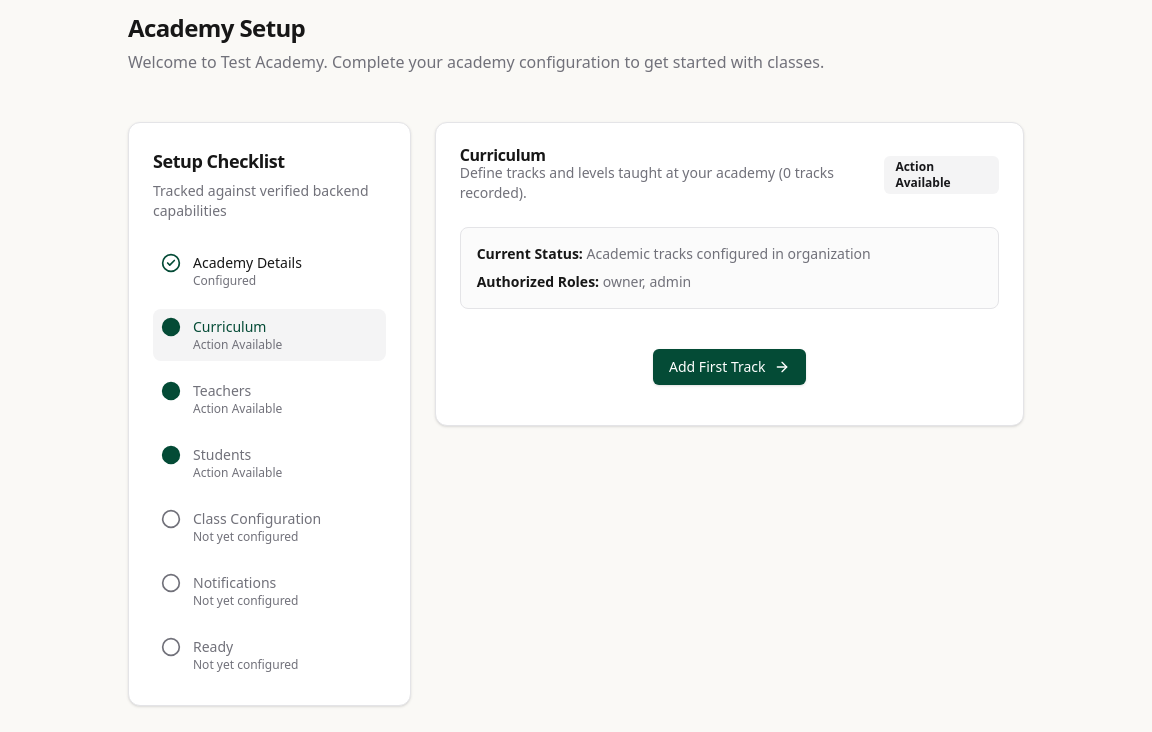
OnboardingWizard (Explicit Steps) › displays truthful uncontracted messaging for Class Configuration, Notifications, and Ready
This screenshot has width=1152, height=732.
Check: the text "Not yet configured" is shown 3 times, box [193, 528, 298, 545]; [193, 593, 298, 609]; [193, 657, 298, 673]
# Click into Class Configuration step
Click the button "Class Configuration Not yet configured".
click(269, 527)  # box [153, 501, 386, 553]
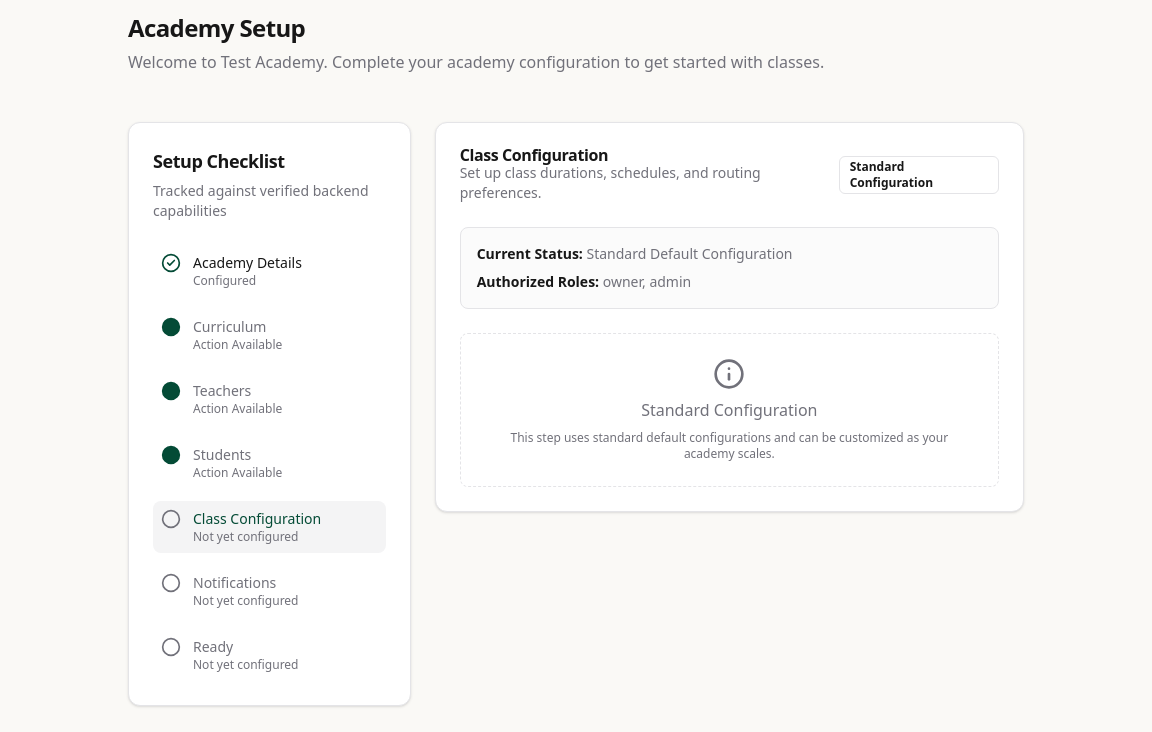
Check: the text "Standard Default Configuration" is shown, box [586, 244, 792, 263]
Check: the 1st text "Standard Configuration" is shown, box [839, 156, 999, 194]
